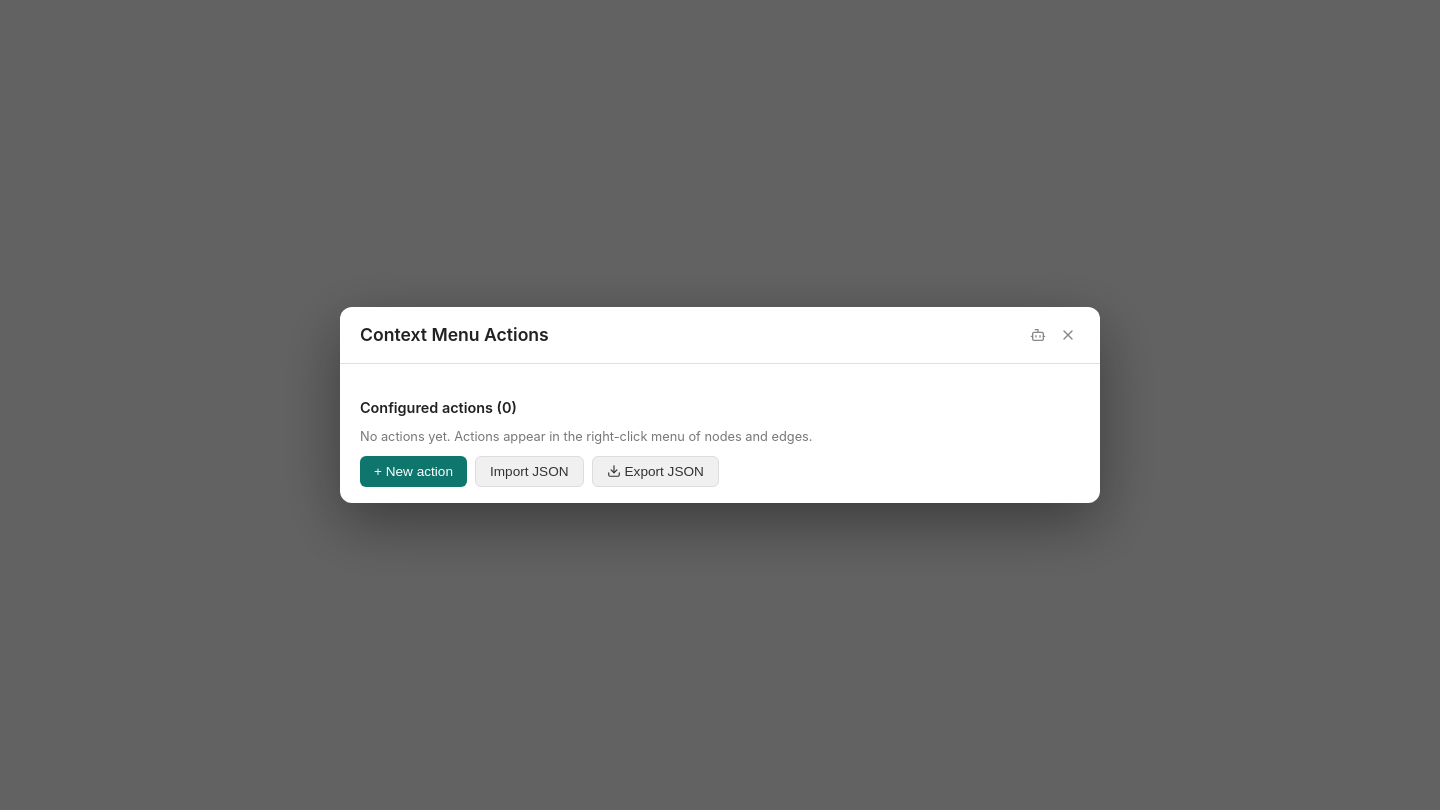
Test: ContextMenuActionsModal — app links › blocks saving an in-browser scheme
The image size is (1440, 810).
Click the button "+ New action" at (414, 471), box [360, 456, 467, 487]
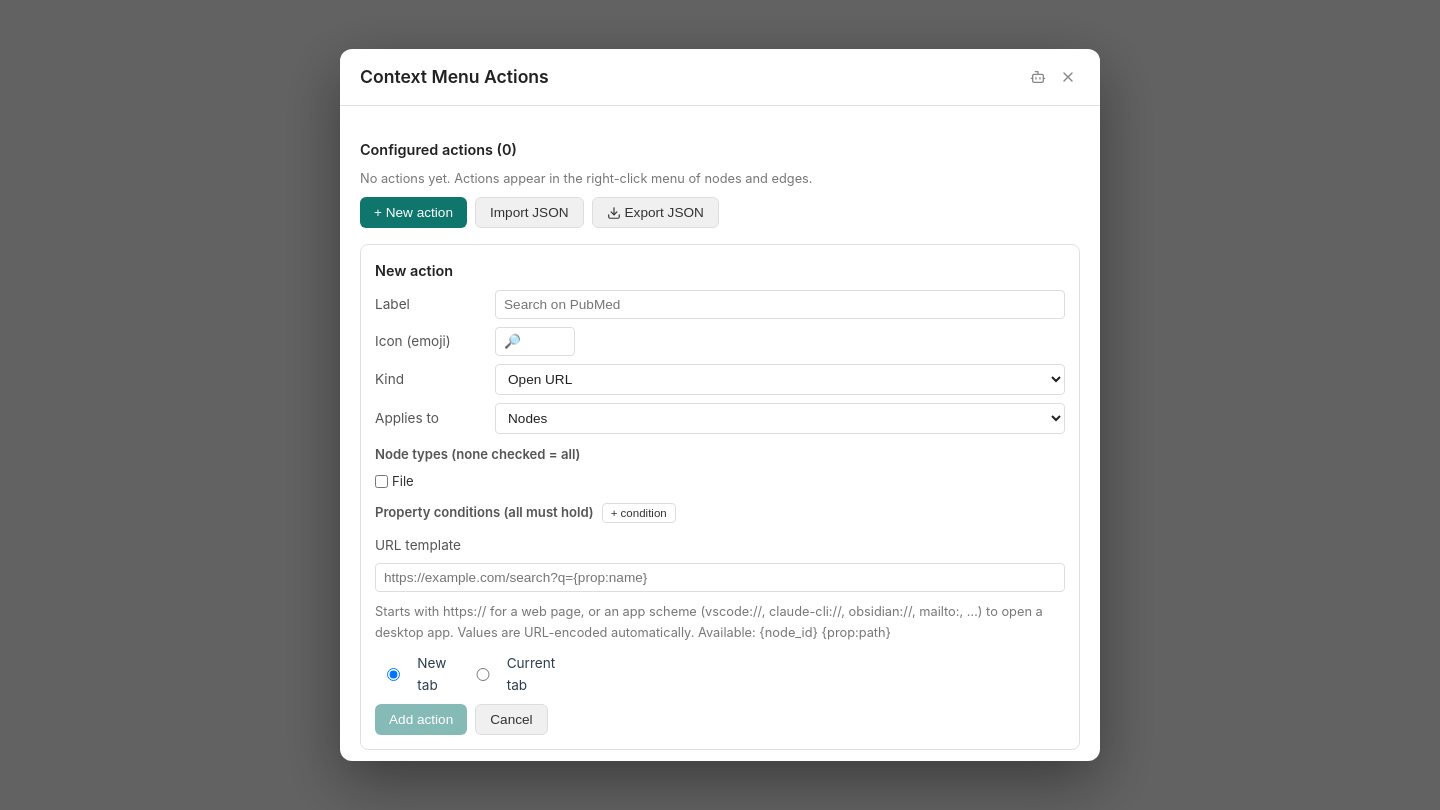
Type "Open in VS Code" into the field with placeholder "Search on PubMed" at (780, 305), box [495, 290, 1065, 319]
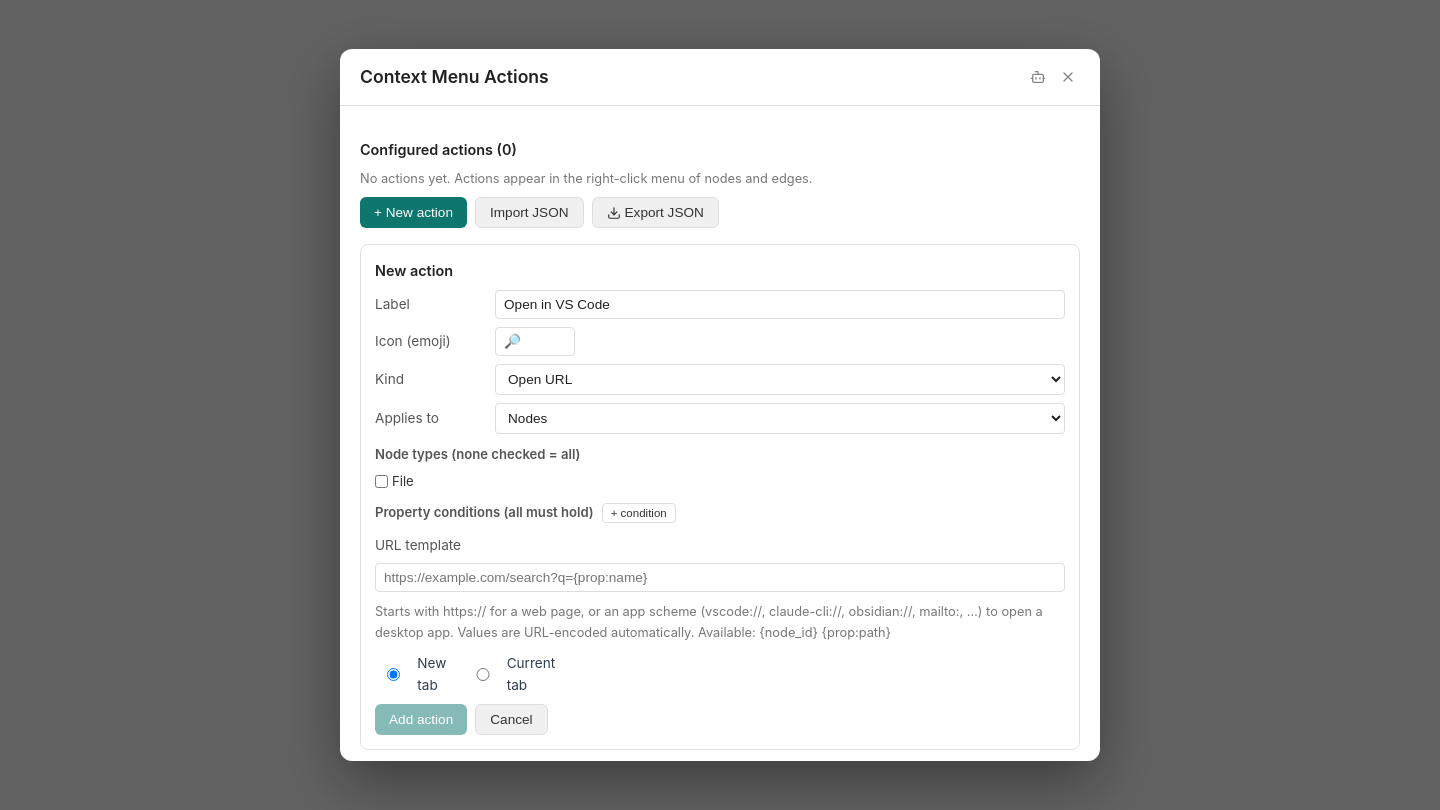
Select "Open URL" in the 1st dropdown at (780, 380), box [495, 364, 1065, 395]
Type "javascript:alert(1)" into the field with placeholder "https://example.com/search?q={prop:name}" at (720, 578), box [375, 563, 1065, 592]
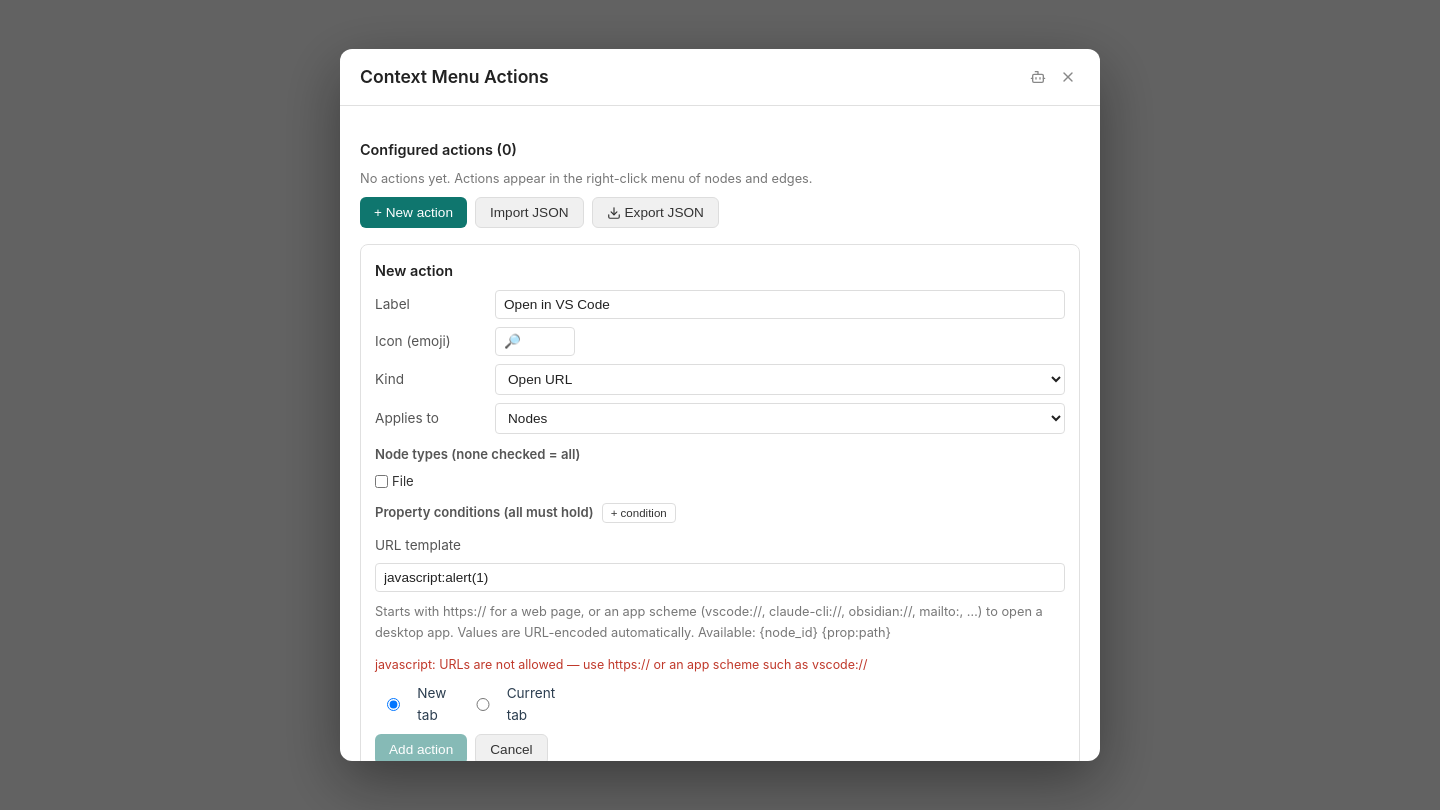
Result: the text with class "field-error" shows "not allowed" at [375, 657, 868, 672]
